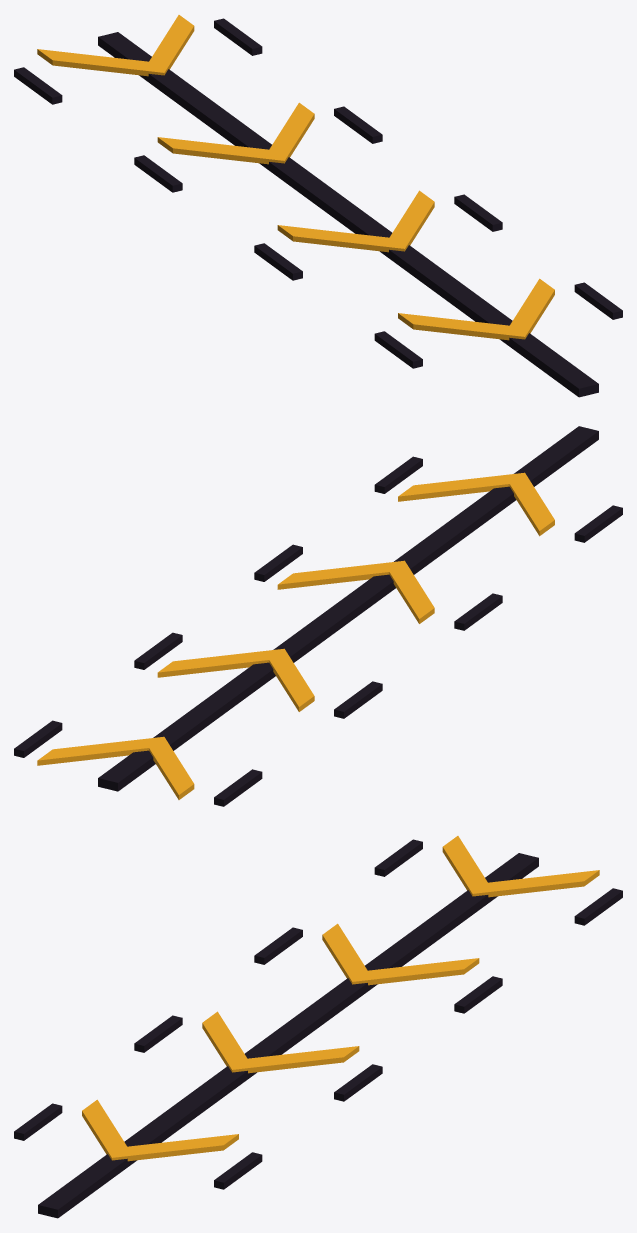
File: trap_dart_lane__lower.glb
3 renders of one model, top to bottom at view 1: azimuth 30°, elevation 25°; view 2: azimuth 150°, elevation 25°; view 3: azimuth 330°, elevation 25°, orthographic.
Parts seen in each view (by area): view 1: Lane; view 2: Lane; view 3: Lane.
Boxes of the visible parts, box(x1,y1,x2,y2) form: Lane: box(14, 15, 622, 397); Lane: box(14, 426, 622, 806); Lane: box(14, 836, 622, 1218).
Bounding box in the file's own units: 0.252 × 0.013 × 1.
